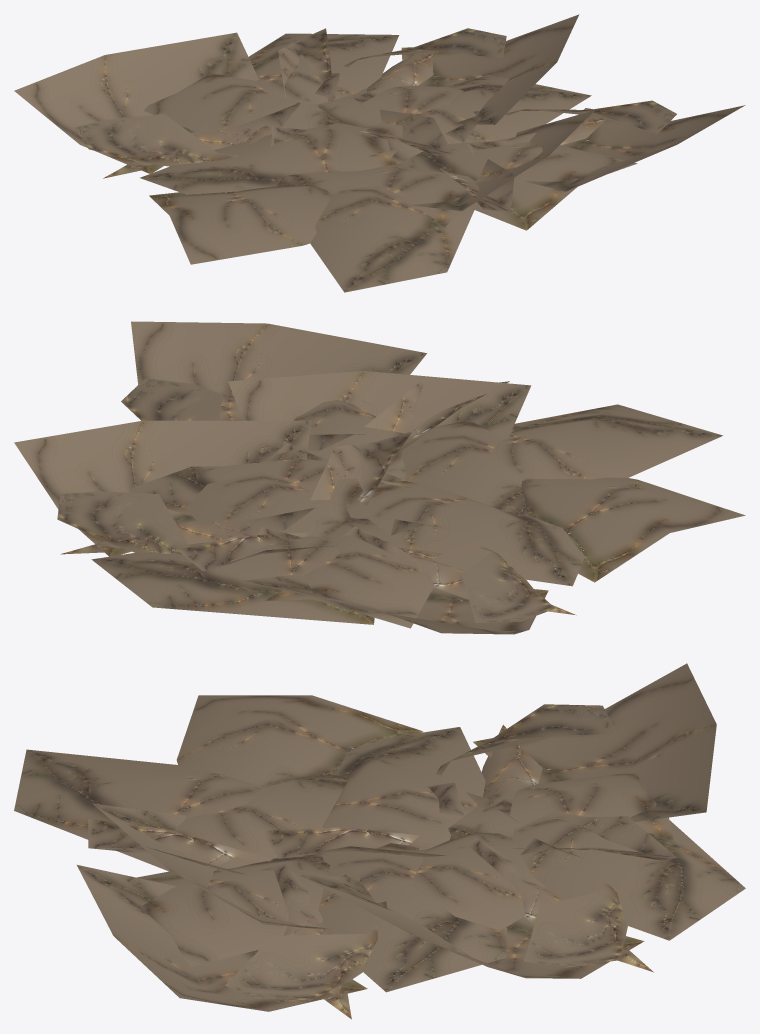
Rendered from branch_stack_2.FBX.
The picture shows the model from 3 angles, top to bottom: view 1: azimuth 30°, elevation 25°; view 2: azimuth 150°, elevation 25°; view 3: azimuth 270°, elevation 25°; orthographic projection. The views are drawn at different scales.
Visible parts, largest first — view 1: branch_stack_2; view 2: branch_stack_2; view 3: branch_stack_2.
Boxes of the visible parts, box(x1,y1,x2,y2) form: branch_stack_2: box(14, 14, 745, 292); branch_stack_2: box(14, 321, 745, 634); branch_stack_2: box(14, 663, 745, 1019).
Size of the model in its own units: 4.4 by 0.3756 by 3.97.
